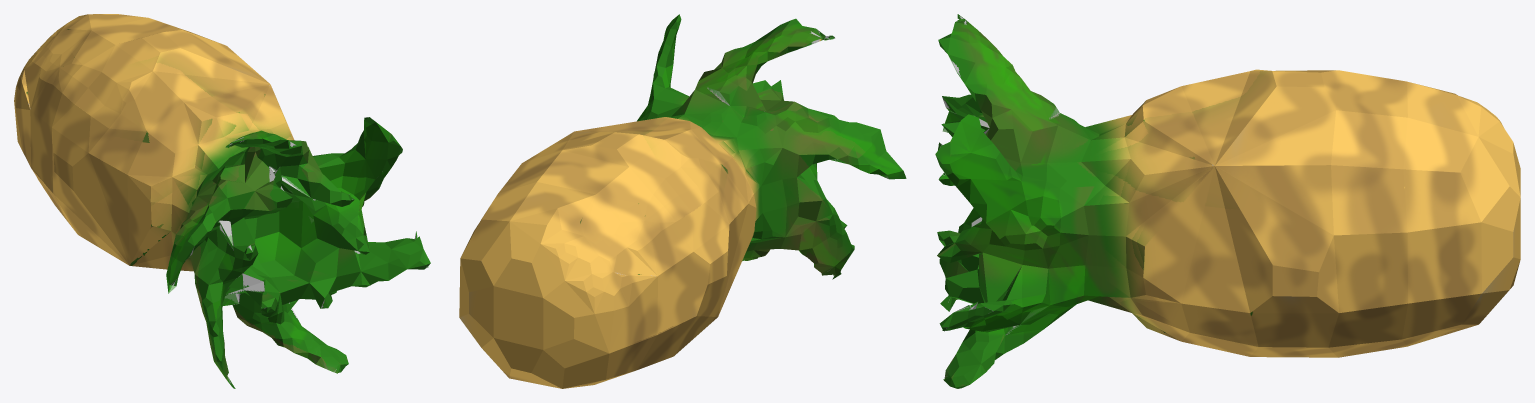
Rendered from render.obj.
3 renders of one model, left to right at view 1: azimuth 30°, elevation 25°; view 2: azimuth 150°, elevation 25°; view 3: azimuth 270°, elevation 25°, orthographic. The views are drawn at different scales.
Parts seen in each view (by area): view 1: obj_Quad_Sphere; view 2: obj_Quad_Sphere; view 3: obj_Quad_Sphere.
Part boxes in pixels (left/top/right/bottom): obj_Quad_Sphere: left=14, top=14, right=430, bottom=388; obj_Quad_Sphere: left=459, top=14, right=906, bottom=388; obj_Quad_Sphere: left=935, top=14, right=1520, bottom=388.
Size of the model in its own units: 3.59 by 3.31 by 5.66.
1 material, 1 textured.
